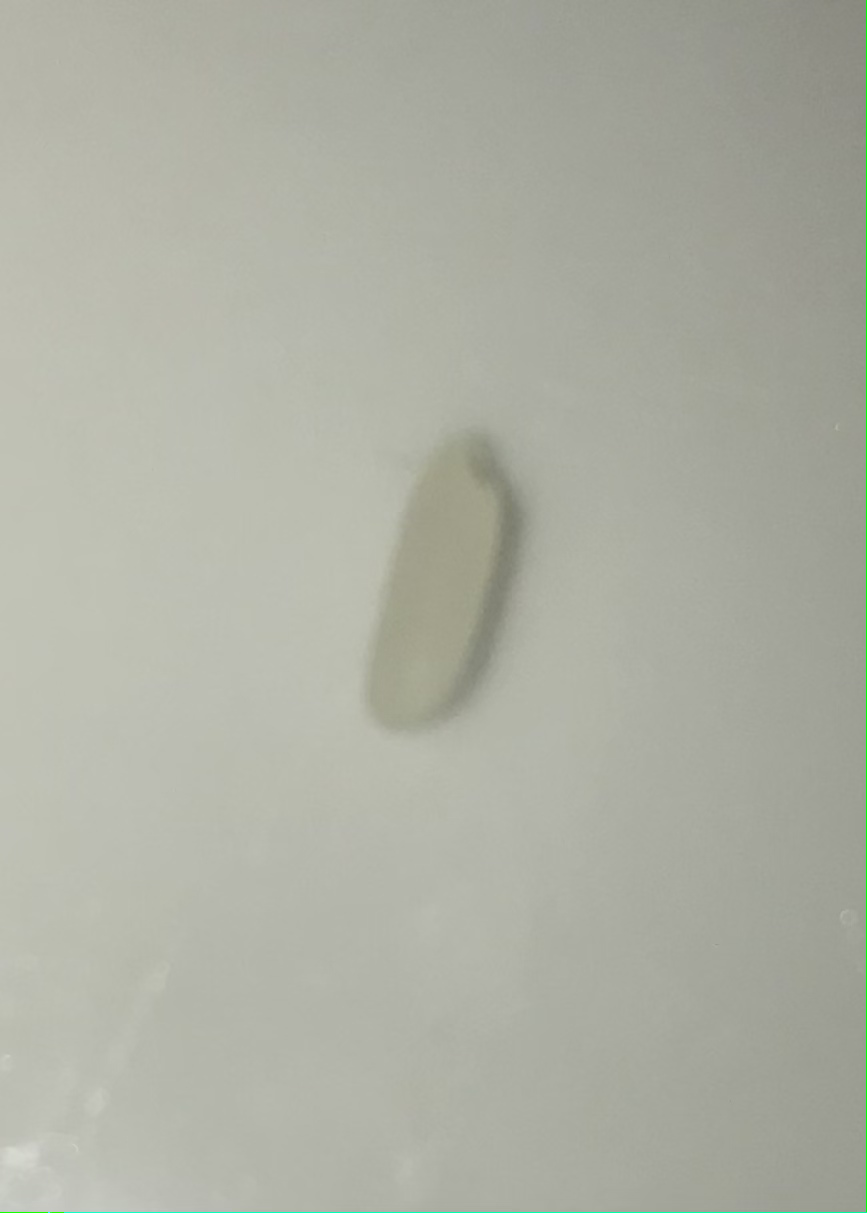Gao Thom Go Cong: (351, 436, 545, 759)
